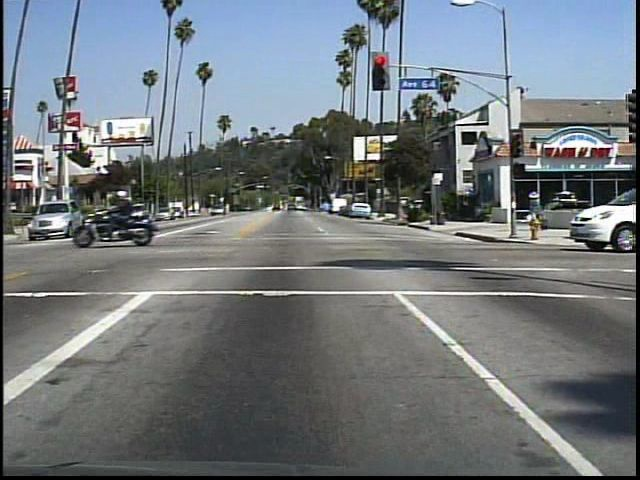person: (113, 187, 152, 248), (522, 186, 548, 218)
